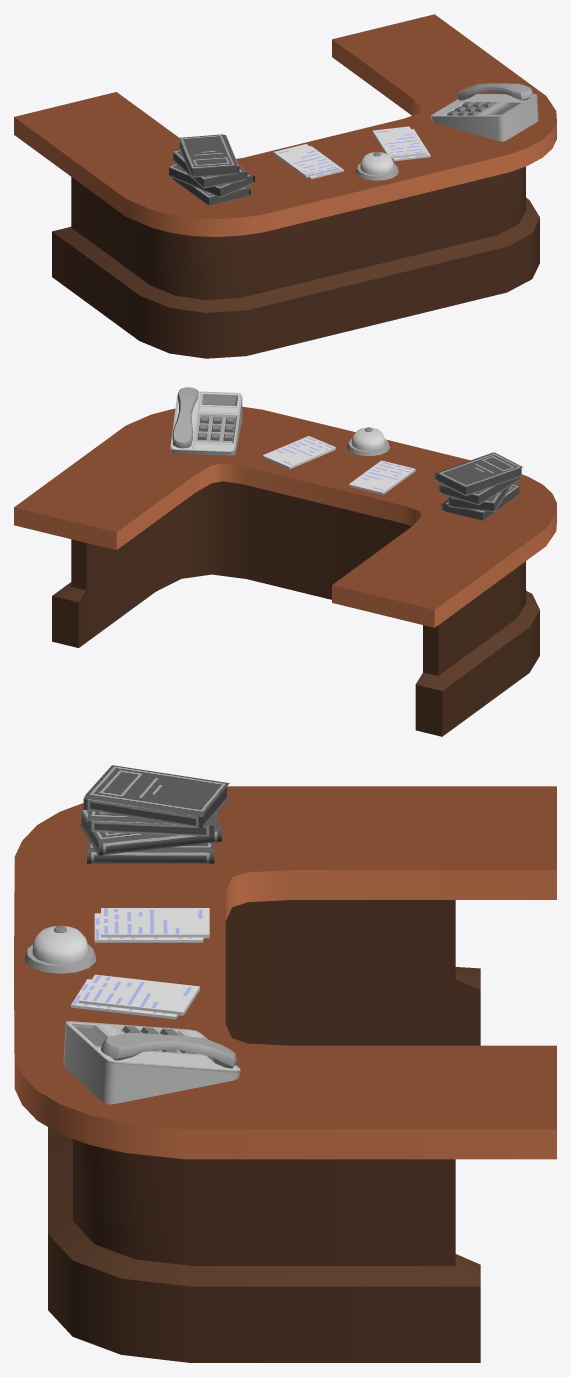
File: prop_Recepdesk.fbx
3 renders of one model, top to bottom at view 1: azimuth 30°, elevation 25°; view 2: azimuth 150°, elevation 25°; view 3: azimuth 270°, elevation 25°, orthographic. The views are drawn at different scales.
Parts seen in each view (by area): view 1: prop_Reception; view 2: prop_Reception; view 3: prop_Reception.
Boxes of the visible parts, x1,y1,x2,y2 form: prop_Reception: (14, 14, 556, 358); prop_Reception: (14, 387, 556, 736); prop_Reception: (14, 765, 556, 1362).
Size of the model in its own units: 309 by 127 by 207.
Materials: 6 (3 with a texture image).
